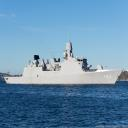Fragata: (3, 35, 126, 86)
